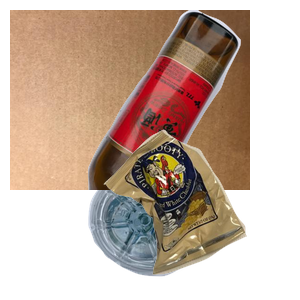cardboard: (10, 10, 250, 190)
glass: (85, 10, 300, 190)
plastic: (86, 163, 282, 300)
trash: (101, 127, 300, 300)
